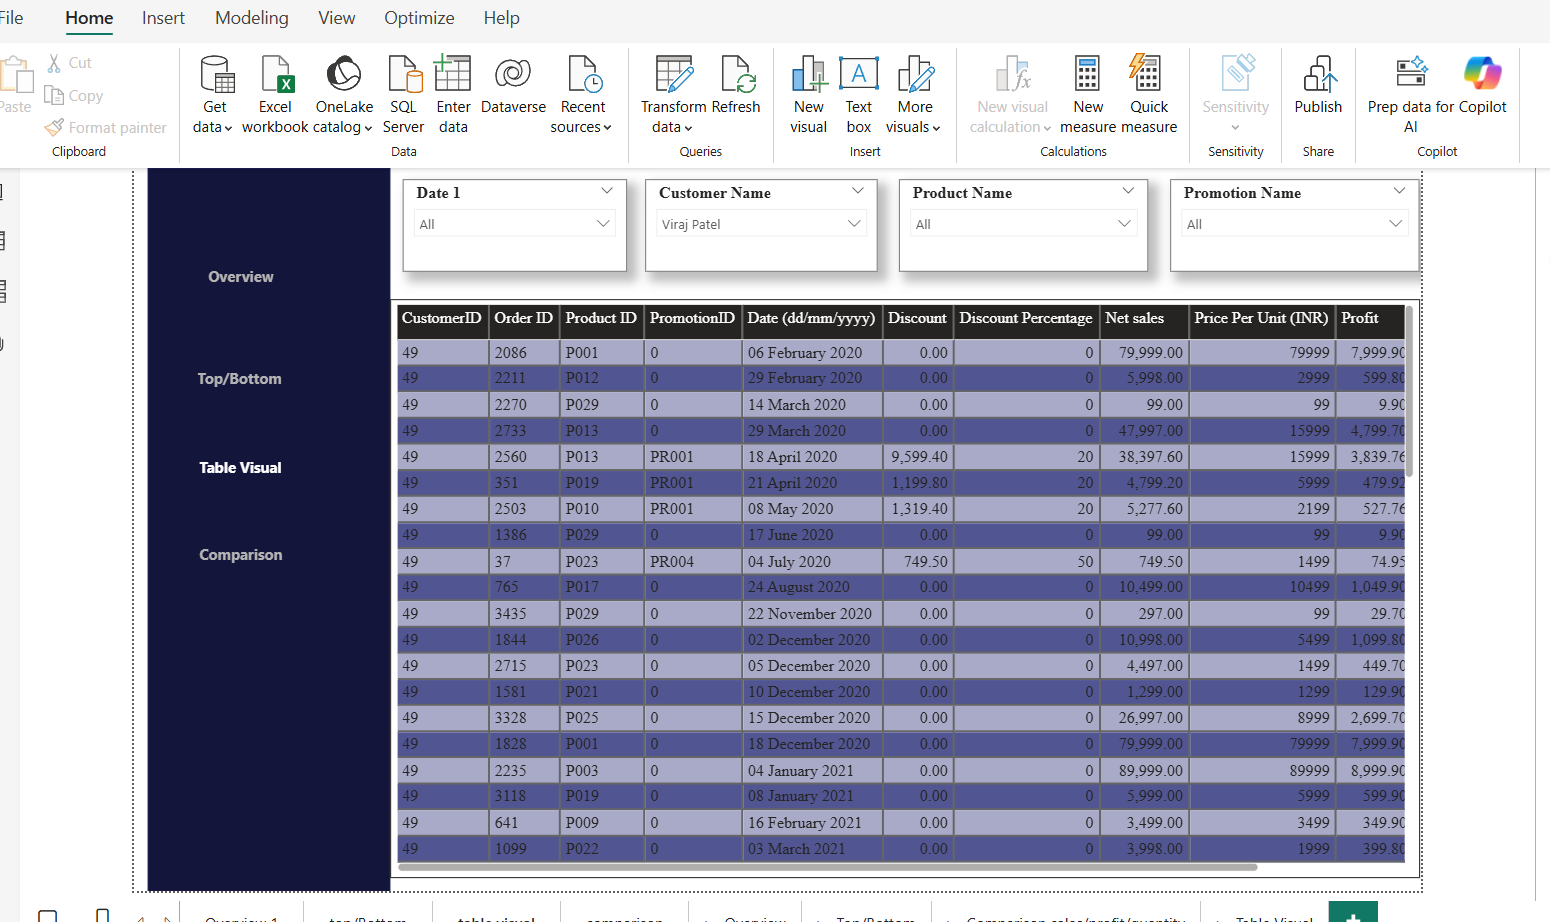

This screenshot's page, from the dashboard's own definition file:
{"tool":"powerbi","page":{"name":"table visual","canvas":[1280,720],"ordinal":2},"visuals":[{"type":"shape","box":[13.7,0,241.3,720.3],"z":0},{"type":"actionButton","title":"Comparison","box":[42.7,360.1,128,46.1],"z":1000},{"type":"actionButton","title":"Table View","box":[41,273.1,129.7,42.7],"z":2000},{"type":"actionButton","title":"Top/Bottom","box":[41,184.3,128,44.4],"z":3000},{"type":"actionButton","title":"Overview","box":[42.3,85.8,128.1,44.8],"z":4000},{"type":"tableEx","fields":{"Values":["Facts.CustomerID","Facts.Order ID","Facts.Product ID","Facts.PromotionID","Facts.Date (dd/mm/yyyy)","Facts.Discount Value  ","Facts.Discount Percentage","Facts.Net sales","Facts.Price Per Unit (INR)","Facts.Profit","Facts.Total Sales  ","Facts.Units Sold"]},"box":[255.2,131.1,1024.8,575.9],"z":5000},{"type":"slicer","fields":{"Values":["Facts.Date (dd/mm/yyyy)"]},"box":[267.7,11.2,223.1,92],"z":6000},{"type":"slicer","fields":{"Values":["Dim Customers.Customer Name"]},"box":[508.9,11.2,231.5,92],"z":7000},{"type":"slicer","fields":{"Values":["Dim Product.Product Name"]},"box":[761.1,11.2,248,92],"z":8000},{"type":"slicer","fields":{"Values":["Dim Promotion.Promotion Name"]},"box":[1031.6,11.2,248,92],"z":9000}]}

Visuals, with their boxes on the page's 1280x720 design canvas (x1, y1, x2, y2). These are canvas units, not pixel positions in the 1550x922 screenshot, which may show the page scaled, cropped or inside an application window:
shape: l=14, t=0, r=255, b=720
"Comparison" actionButton: l=43, t=360, r=171, b=406
"Table View" actionButton: l=41, t=273, r=171, b=316
"Top/Bottom" actionButton: l=41, t=184, r=169, b=229
"Overview" actionButton: l=42, t=86, r=170, b=131
tableEx - Facts.CustomerID x Facts.Order ID: l=255, t=131, r=1280, b=707
slicer - Facts.Date (dd/mm/yyyy): l=268, t=11, r=491, b=103
slicer - Dim Customers.Customer Name: l=509, t=11, r=740, b=103
slicer - Dim Product.Product Name: l=761, t=11, r=1009, b=103
slicer - Dim Promotion.Promotion Name: l=1032, t=11, r=1280, b=103
